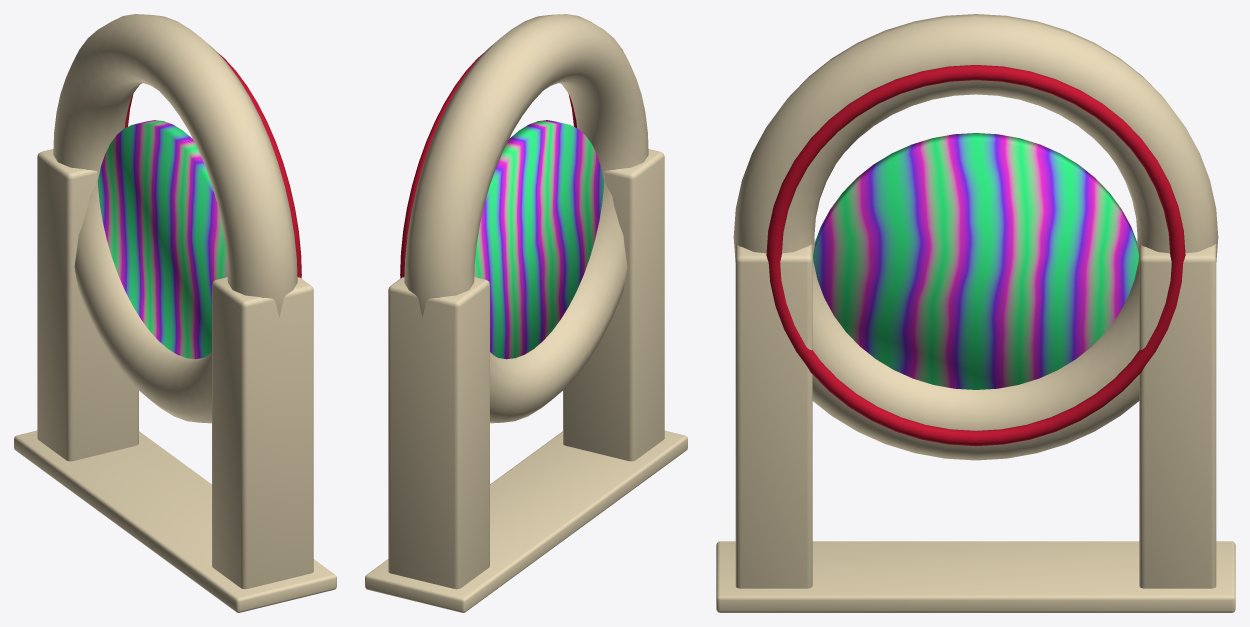
The model's file is SM_MemePortal.fbx.
3 views of the same model, side by side, from view 1: azimuth 30°, elevation 25°; view 2: azimuth 150°, elevation 25°; view 3: azimuth 270°, elevation 25° (orthographic). The views are drawn at different scales.
Parts seen in each view (by area): view 1: SM_MemePortal; view 2: SM_MemePortal; view 3: SM_MemePortal.
Part boxes in pixels (left/top/right/bottom): SM_MemePortal: left=14, top=14, right=336, bottom=612; SM_MemePortal: left=365, top=14, right=687, bottom=612; SM_MemePortal: left=716, top=14, right=1235, bottom=612.
Size of what is drawn, in the model's own units: 1.4 by 6.52 by 5.4.
1 material, 1 textured.
